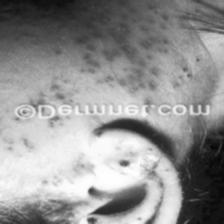Toxin: (94, 64, 163, 98), (114, 150, 160, 177), (49, 83, 65, 101)
